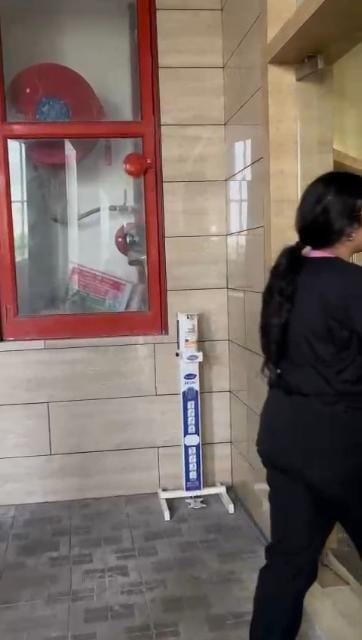floor: (0, 506, 237, 640)
moving-obj: (263, 168, 362, 633)
wall: (159, 7, 261, 281), (0, 351, 156, 502)
